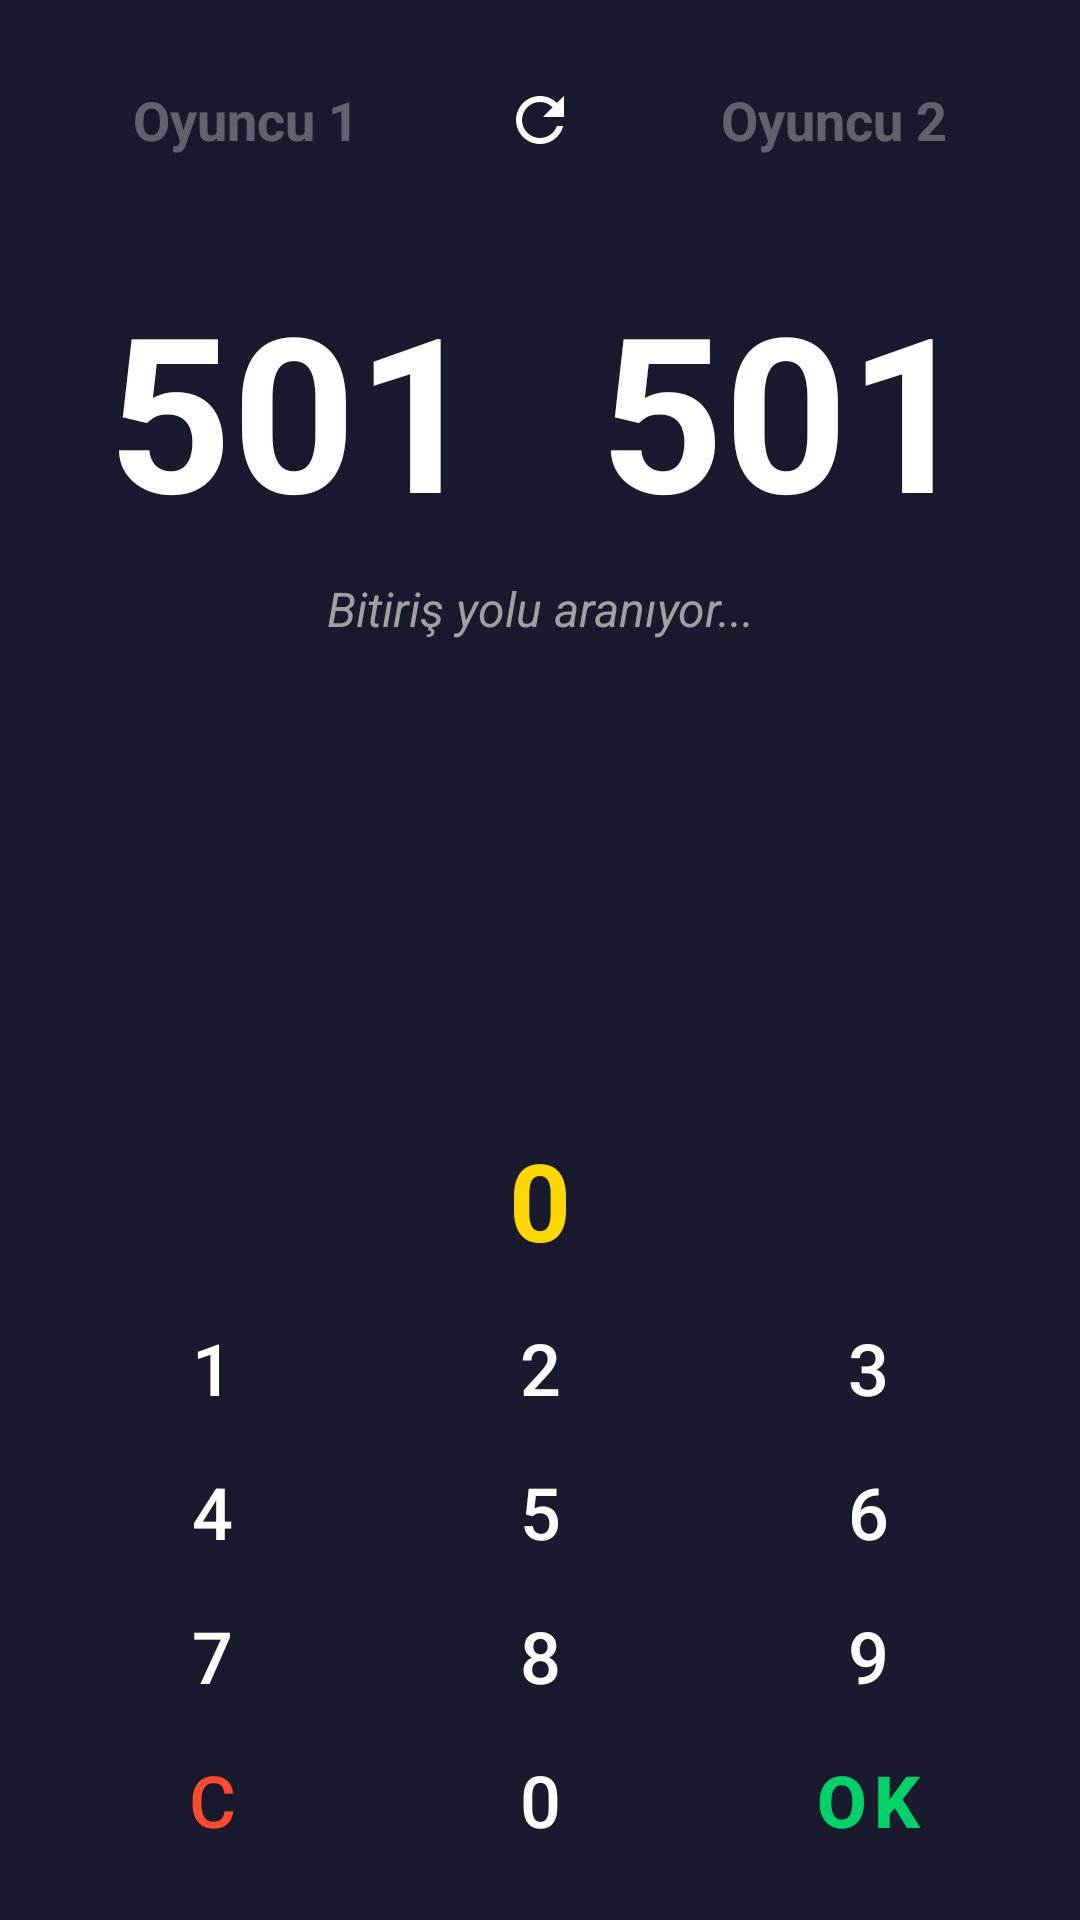

Icons on this 1080px x 1920px Android screen, each with its box as (x1, y1, x2, y2):
Reset Table: (516, 96, 564, 144)
